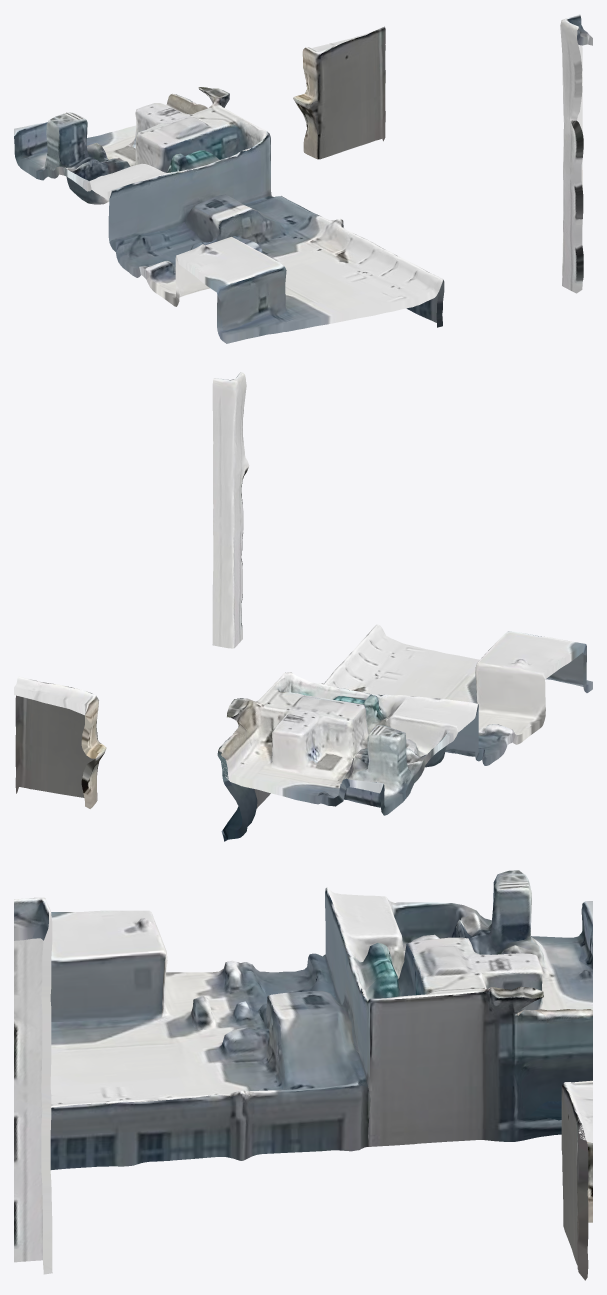
File: z20-167757-405240-h1-yup-uvflip-v3-world.glb
3 renders of one model, top to bottom at view 1: azimuth 30°, elevation 25°; view 2: azimuth 150°, elevation 25°; view 3: azimuth 270°, elevation 25°, orthographic. The views are drawn at different scales.
Size of the model in its own units: 30.16 by 21.44 by 30.32.
1 material, 1 textured.
